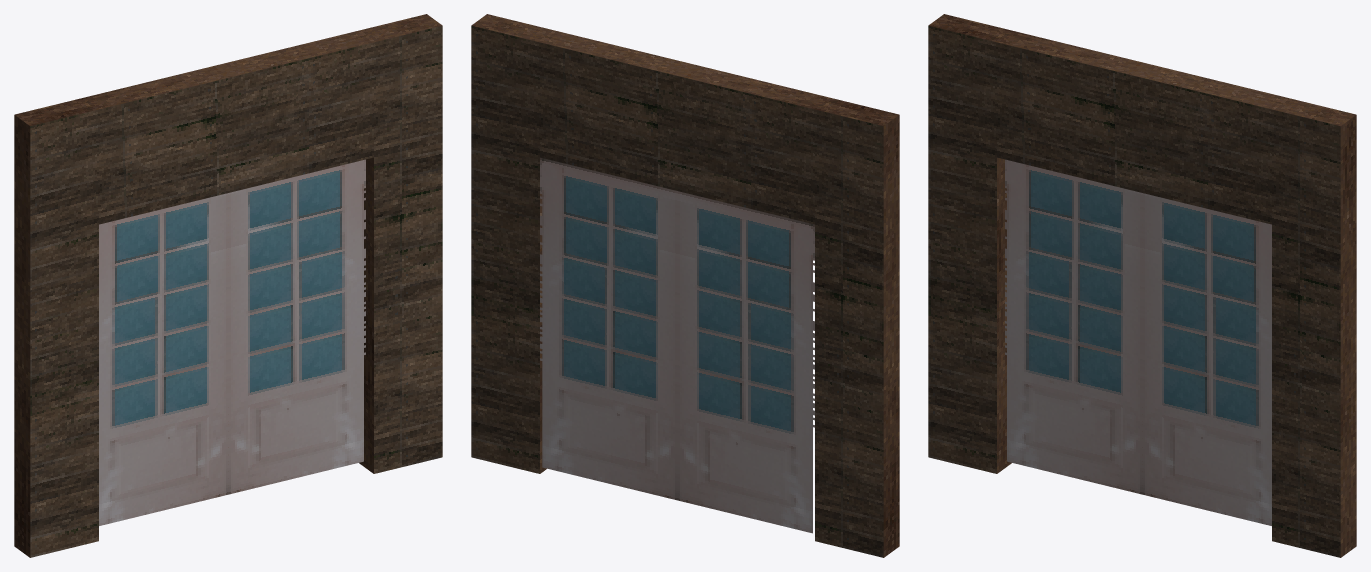
File: door_double_07.glb
3 renders of one model, left to right at view 1: azimuth 30°, elevation 25°; view 2: azimuth 150°, elevation 25°; view 3: azimuth 330°, elevation 25°, orthographic.
Visible parts, largest first — view 1: door_double_072, door_07_003, door_07_001; view 2: door_double_072, door_07_001, door_07_003; view 3: door_double_072, door_07_001, door_07_003.
Boxes of the visible parts, <box> form: door_double_072: <box>14,14,442,557</box>; door_07_003: <box>228,159,365,494</box>; door_07_001: <box>99,193,228,525</box>; door_double_072: <box>471,14,899,557</box>; door_07_001: <box>677,191,814,533</box>; door_07_003: <box>540,157,677,500</box>; door_double_072: <box>928,14,1356,557</box>; door_07_001: <box>1005,159,1142,494</box>; door_07_003: <box>1142,193,1271,525</box>.
Size of the model in its own units: 3 by 3 by 0.2.
Materials: 3 (3 with a texture image).
